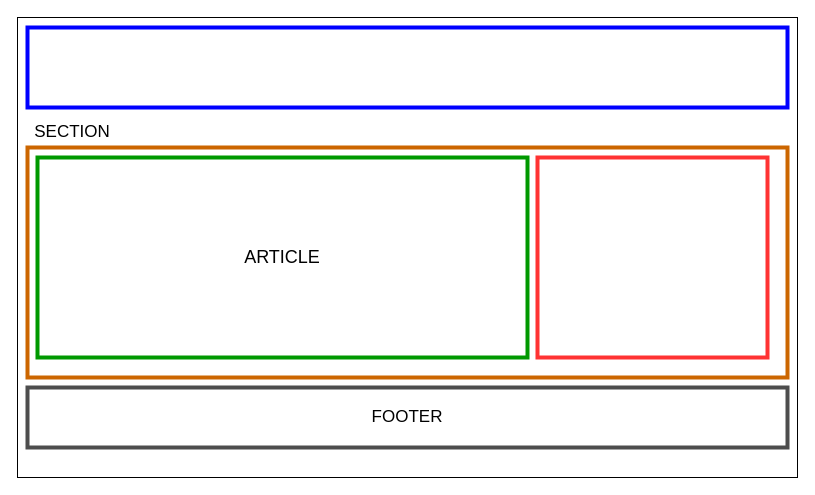
Image size: 815x495. Some labels were removed from this diagram. The shapes that lost their labels are listed below. From the top down, each one's centre as x and y in pixels, then its label:
At (x=407, y=67): "HEADER".
At (x=652, y=257): "ASIDE".
